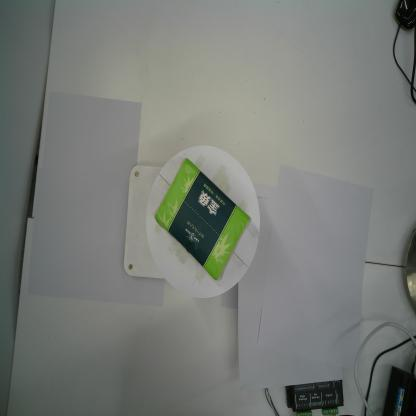Tissue: (153, 156, 253, 283)
